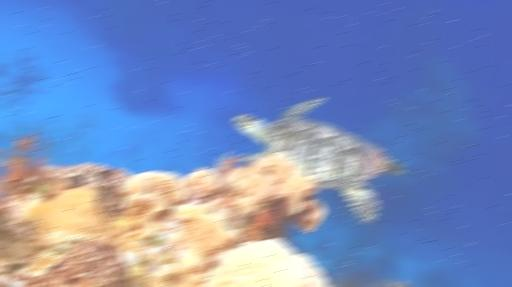Fish: (233, 98, 404, 223)
